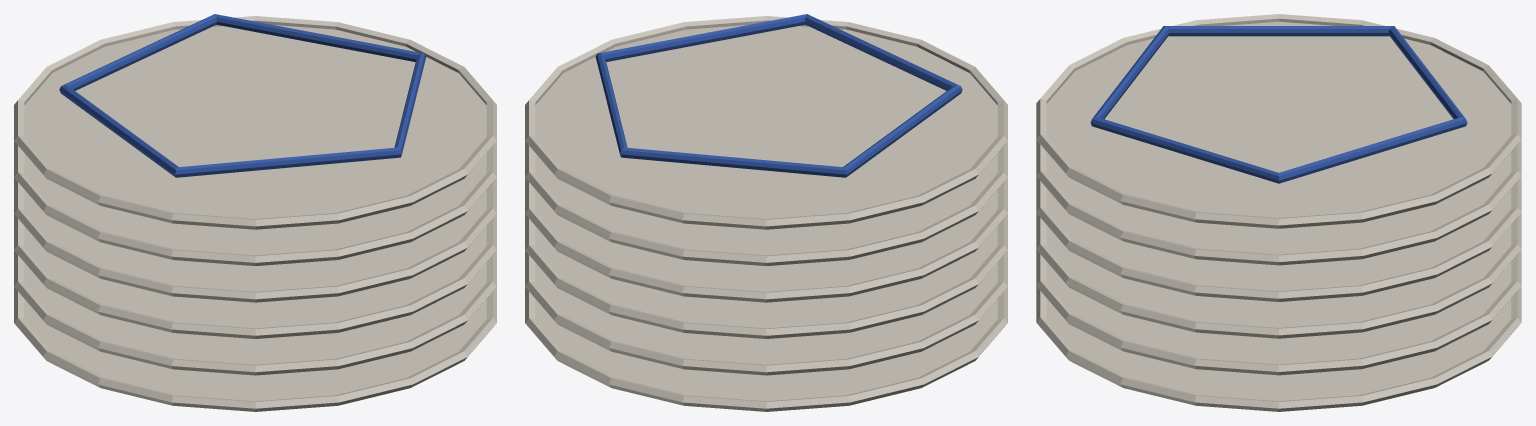
The model's file is plate_stack.glb.
3 renders of one model, left to right at view 1: azimuth 30°, elevation 25°; view 2: azimuth 150°, elevation 25°; view 3: azimuth 270°, elevation 25°, orthographic.
Visible parts, largest first — view 1: plate_stack; view 2: plate_stack; view 3: plate_stack.
Part boxes in pixels (<box>): plate_stack: <box>14,14,496,411</box>; plate_stack: <box>525,14,1007,411</box>; plate_stack: <box>1036,14,1521,411</box>.
Size of the model in its own units: 0.256 by 0.14 by 0.2521.
